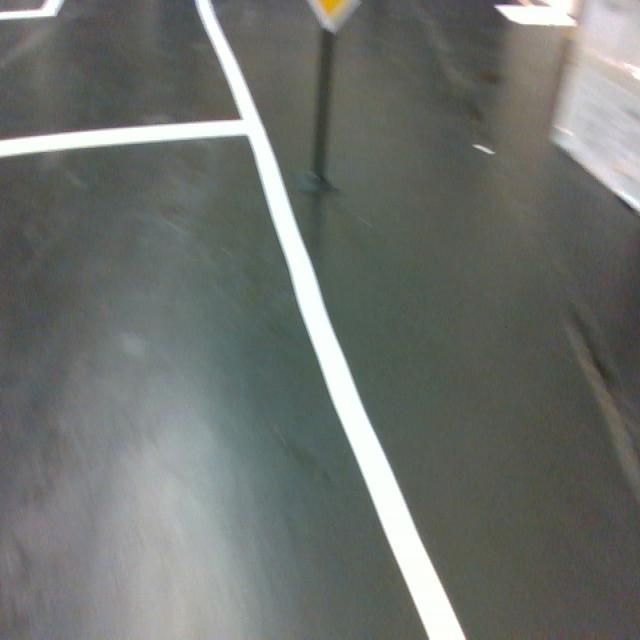priority-sign: (304, 0, 362, 37)
